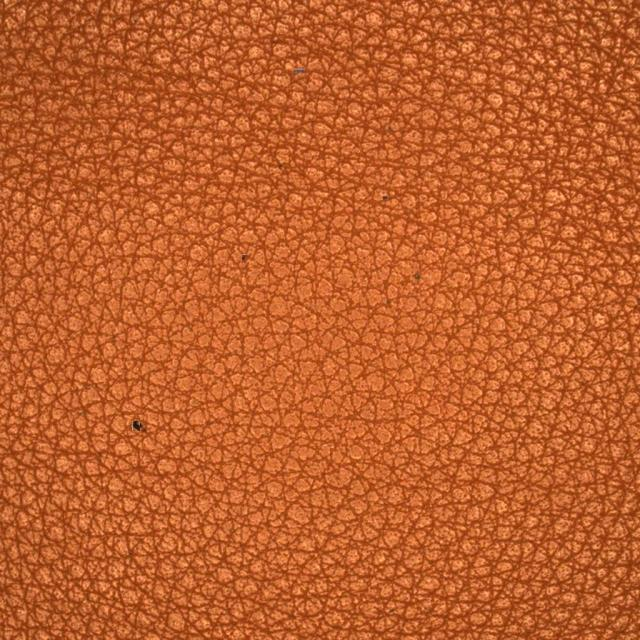pinhole: (77, 350, 208, 498)
